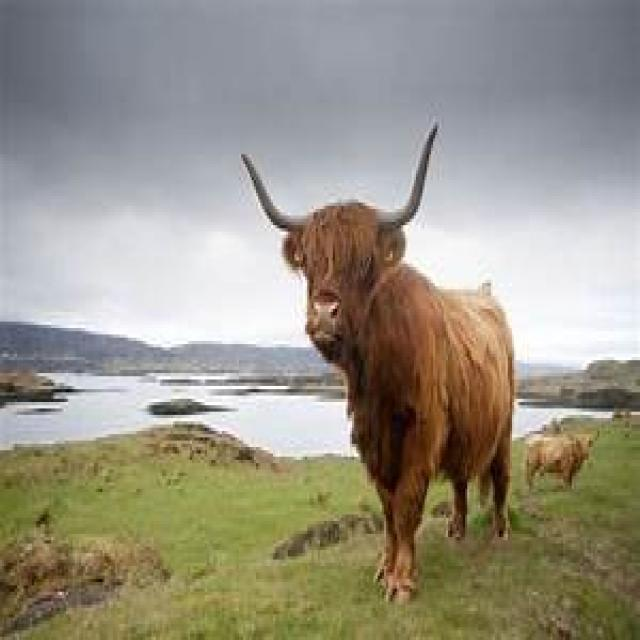cow: (243, 135, 516, 608)
